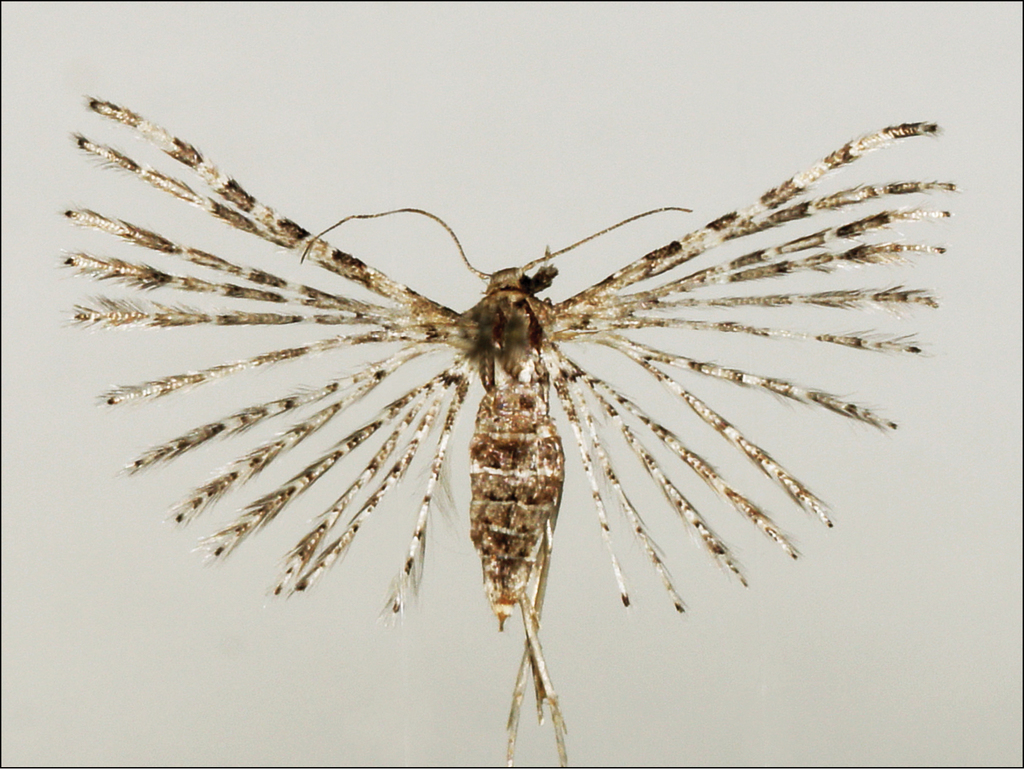Alucitidae: (61, 85, 961, 769)
moth: (59, 83, 959, 767)
